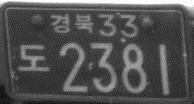1: (156, 42, 171, 98)
2: (58, 41, 89, 93)
3: (90, 41, 116, 94), (97, 12, 117, 38), (119, 13, 137, 38)
8: (121, 42, 147, 93)
경북_O: (49, 13, 93, 34)
도: (17, 42, 52, 74)
